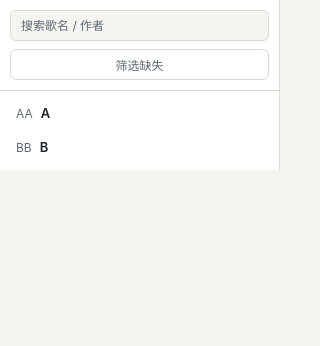
Test case: SongList — 缺失筛选面板 › 命令级失败显示重试入口，重试成功后恢复缺失结果
Click the button with class "missing-filter-btn" at (140, 64), box [10,49,269,80]
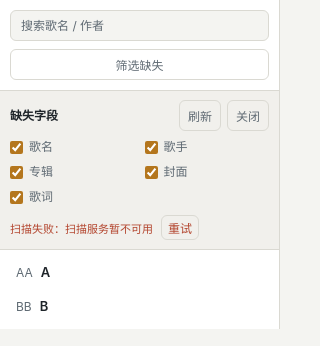
Check: the text "扫描失败：扫描服务暂不可用" is shown, box [10,222,156,236]
Click the button with class "missing-retry-btn" at (180, 228), box [161,215,199,240]
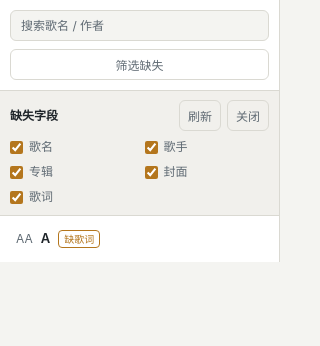
Check: the number of list items with class "song-row" is 1, box [16,230,100,248]
Check: the text "缺歌词" is shown, box [58,230,100,248]
